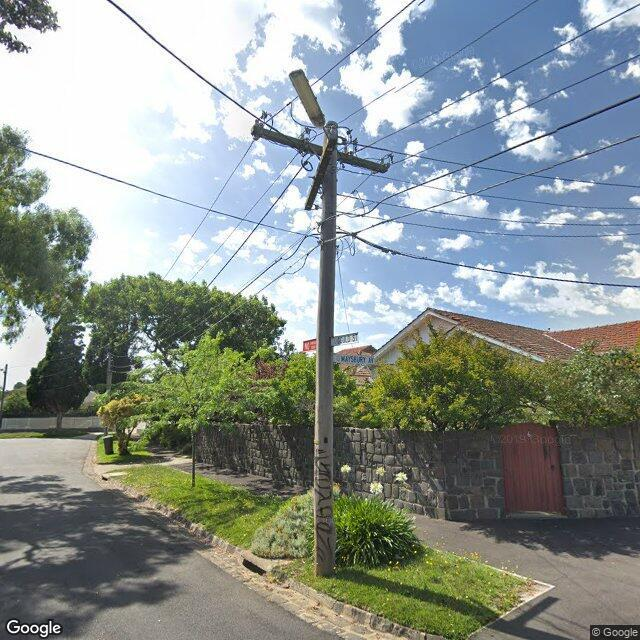crossarm: (251, 112, 393, 174), (302, 136, 340, 212)
streetlight: (288, 69, 331, 142)
timber-pole: (314, 120, 340, 576)
